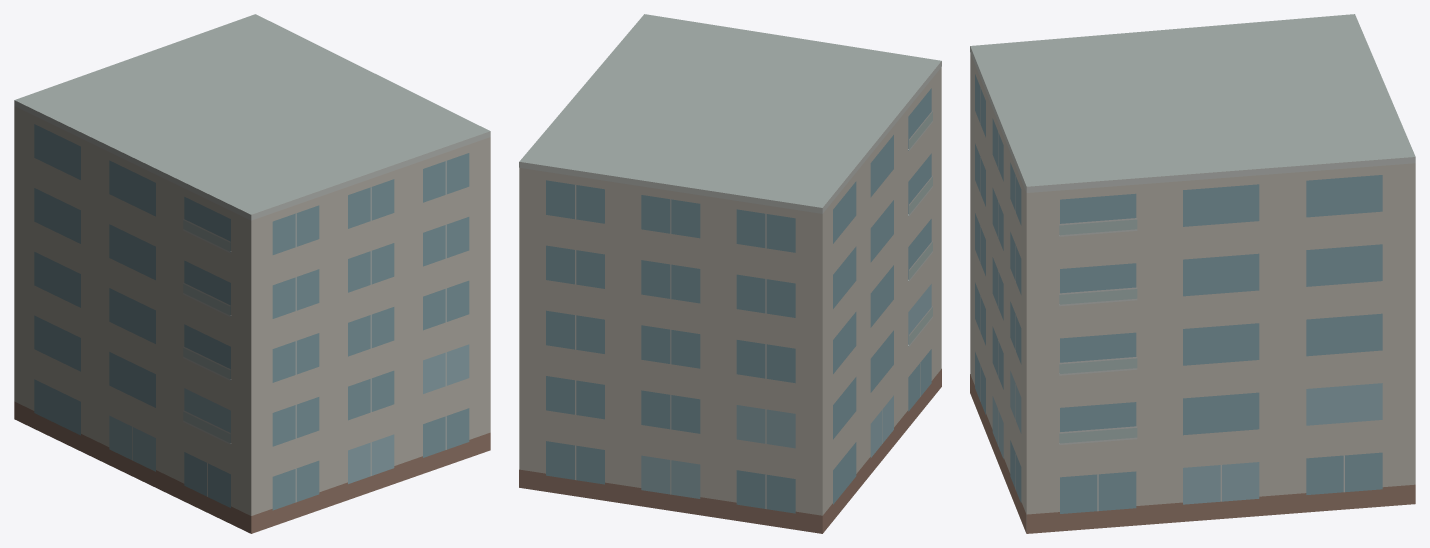
The model's file is survey-upis-32885727.glb.
3 views of the same model, side by side, from view 1: azimuth 30°, elevation 25°; view 2: azimuth 150°, elevation 25°; view 3: azimuth 270°, elevation 25° (orthographic). The views are drawn at different scales.
Visible parts, largest first — view 1: survey-upis-32885727.tmp; view 2: survey-upis-32885727.tmp; view 3: survey-upis-32885727.tmp.
Part boxes in pixels (left/top/right/bottom): survey-upis-32885727.tmp: left=14, top=14, right=490, bottom=533; survey-upis-32885727.tmp: left=519, top=14, right=941, bottom=533; survey-upis-32885727.tmp: left=970, top=14, right=1415, bottom=533.
Size of the model in its own units: 14.31 by 13.4 by 15.6.
